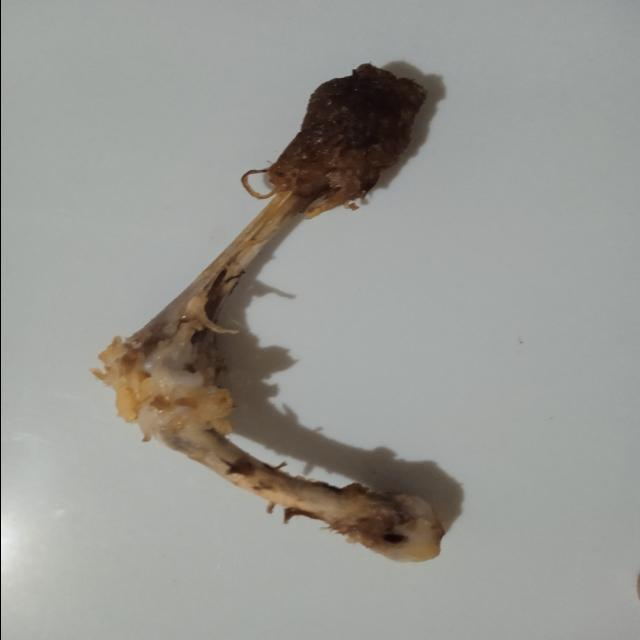bone: (78, 56, 470, 578)
